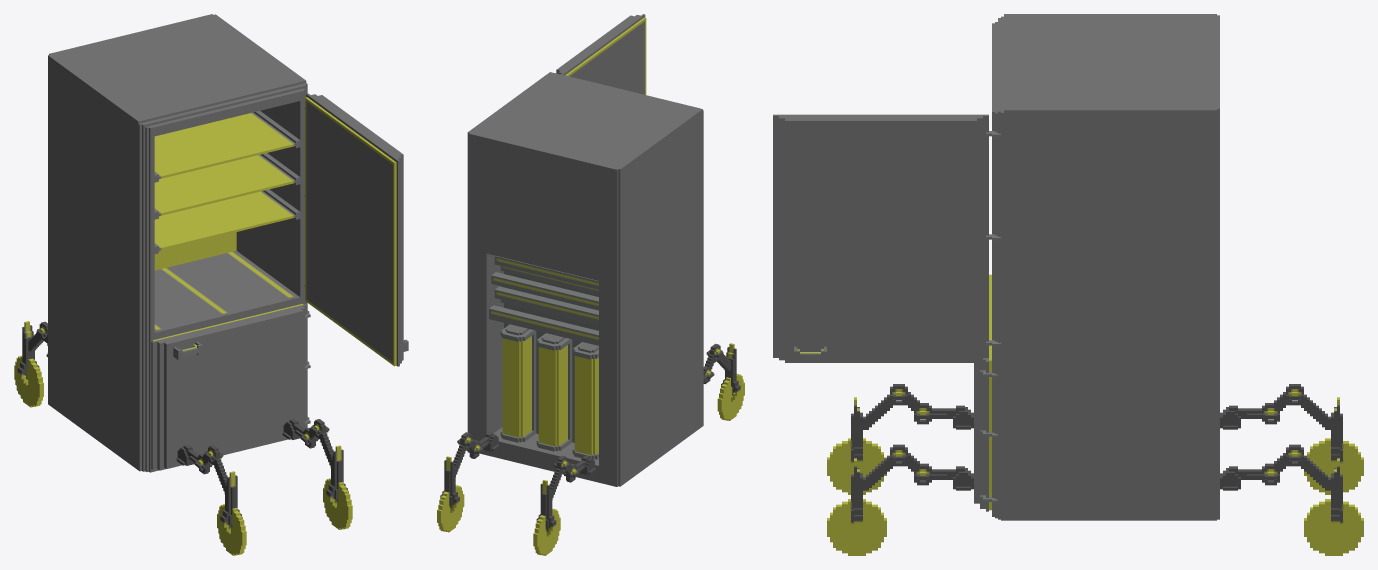
The model's file is Enemy-16-FridgeMed.fbx.
The picture shows the model from 3 angles, left to right: view 1: azimuth 30°, elevation 25°; view 2: azimuth 150°, elevation 25°; view 3: azimuth 270°, elevation 25°; orthographic projection. The views are drawn at different scales.
Parts seen in each view (by area): view 1: FridgeMed; view 2: FridgeMed; view 3: FridgeMed.
Part boxes in pixels (x1=…): FridgeMed: x1=14, y1=14, x2=408, y2=555; FridgeMed: x1=437, y1=14, x2=744, y2=555; FridgeMed: x1=773, y1=14, x2=1363, y2=555.
Size of the model in its own units: 82 by 170 by 197.
1 material, 1 textured.
